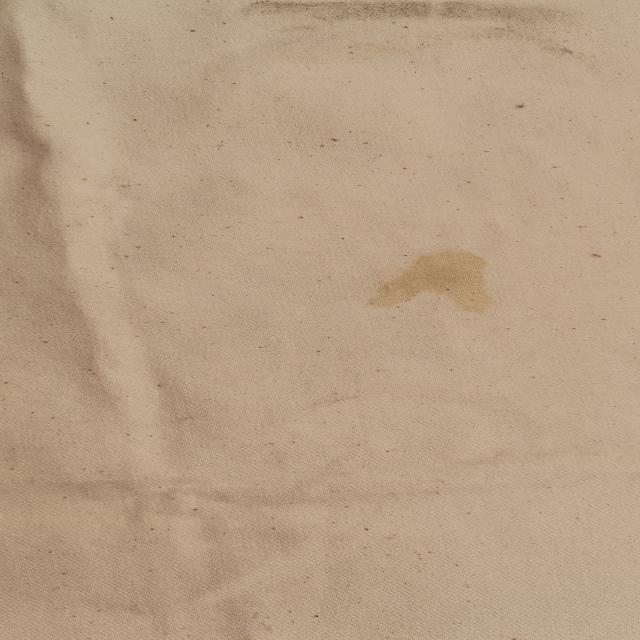taaaches: (338, 229, 530, 328)
